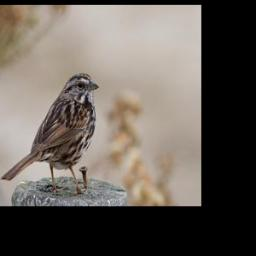Sparrow: (0, 69, 100, 195)
